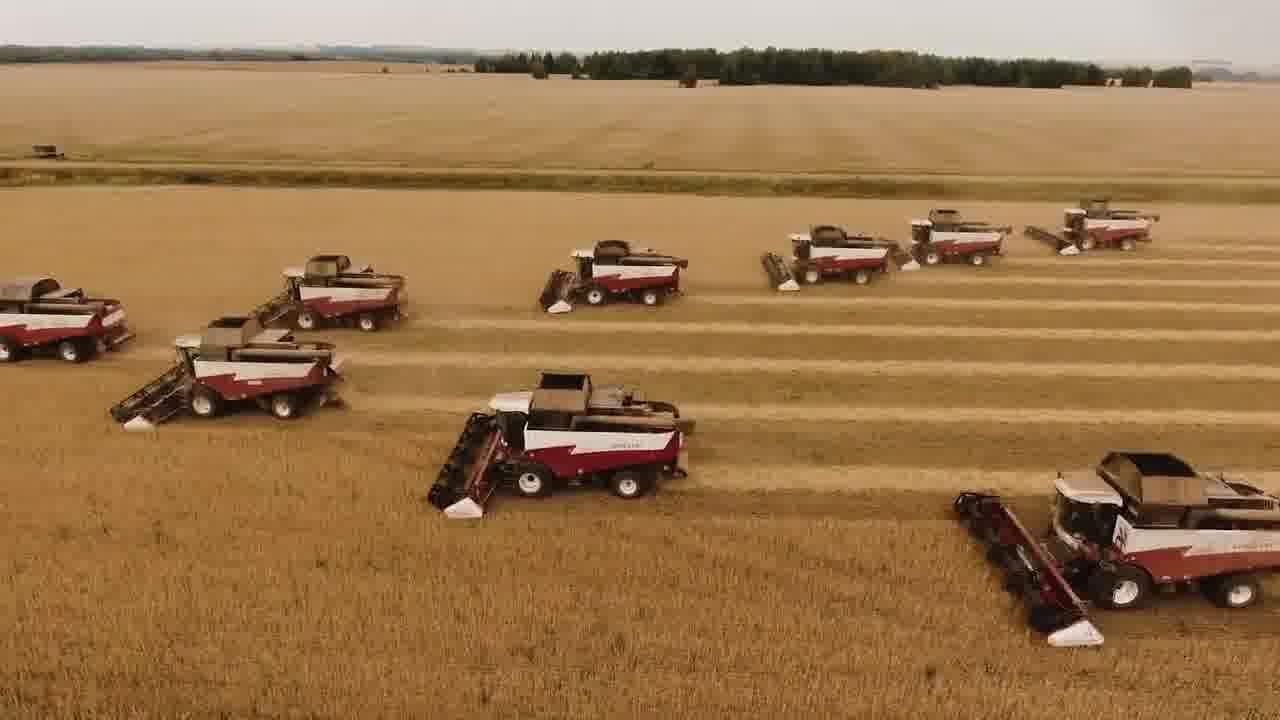combine harvester: (949, 443, 1280, 655), (424, 366, 696, 525), (104, 314, 348, 435), (0, 271, 138, 368), (254, 249, 412, 332), (534, 235, 692, 317), (759, 220, 896, 296), (1023, 193, 1164, 258), (895, 205, 1014, 275)
